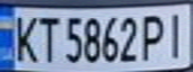2: (118, 11, 142, 63)
5: (60, 12, 84, 64)
6: (100, 12, 121, 64)
8: (81, 12, 103, 64)
I: (163, 8, 193, 61)
K: (9, 11, 42, 63)
P: (139, 11, 169, 62)
T: (33, 12, 60, 63)
